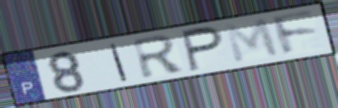8: (45, 48, 87, 94)
F: (269, 9, 321, 58)
I: (107, 42, 130, 83)
M: (222, 16, 283, 66)
P: (179, 25, 226, 74)
R: (130, 33, 188, 81)
